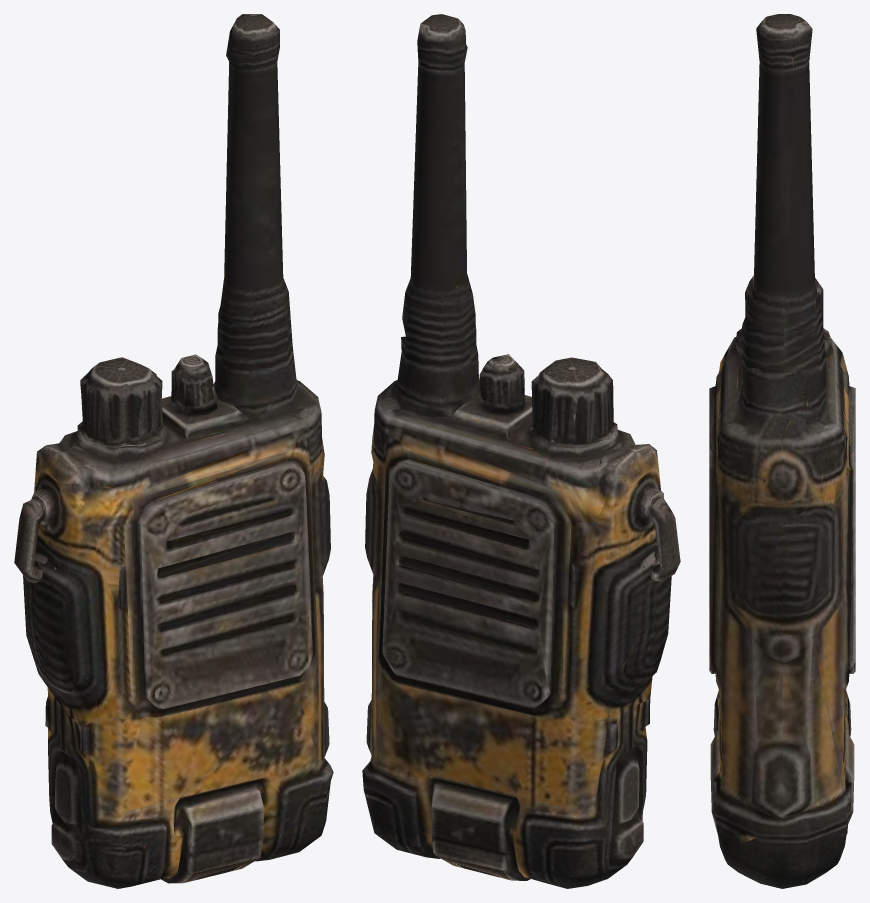
Rendered from g_radio.glb.
3 views of the same model, side by side, from view 1: azimuth 30°, elevation 25°; view 2: azimuth 150°, elevation 25°; view 3: azimuth 270°, elevation 25° (orthographic). The views are drawn at different scales.
Bounding box in the file's own units: 0.3628 × 0.9521 × 0.148.
Materials: 1 (1 with a texture image).
